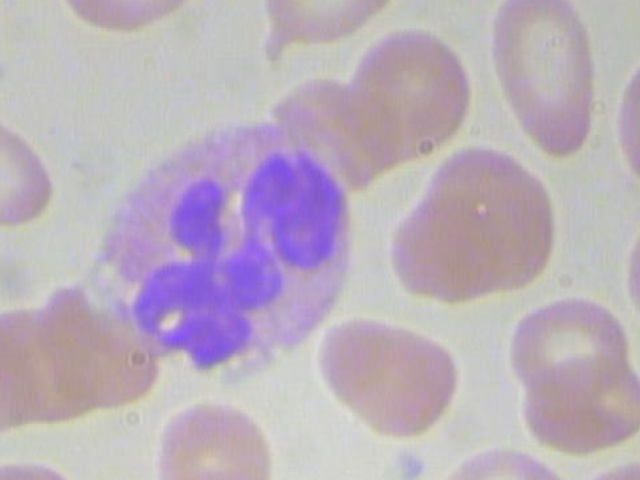RBC: (372, 144, 562, 313), (311, 305, 471, 446), (482, 0, 617, 158), (339, 23, 484, 169), (495, 285, 638, 403), (144, 389, 291, 480), (242, 0, 402, 65), (0, 91, 57, 232), (420, 437, 578, 480), (54, 0, 209, 33), (0, 450, 85, 480)
WBC: (83, 111, 368, 391)
